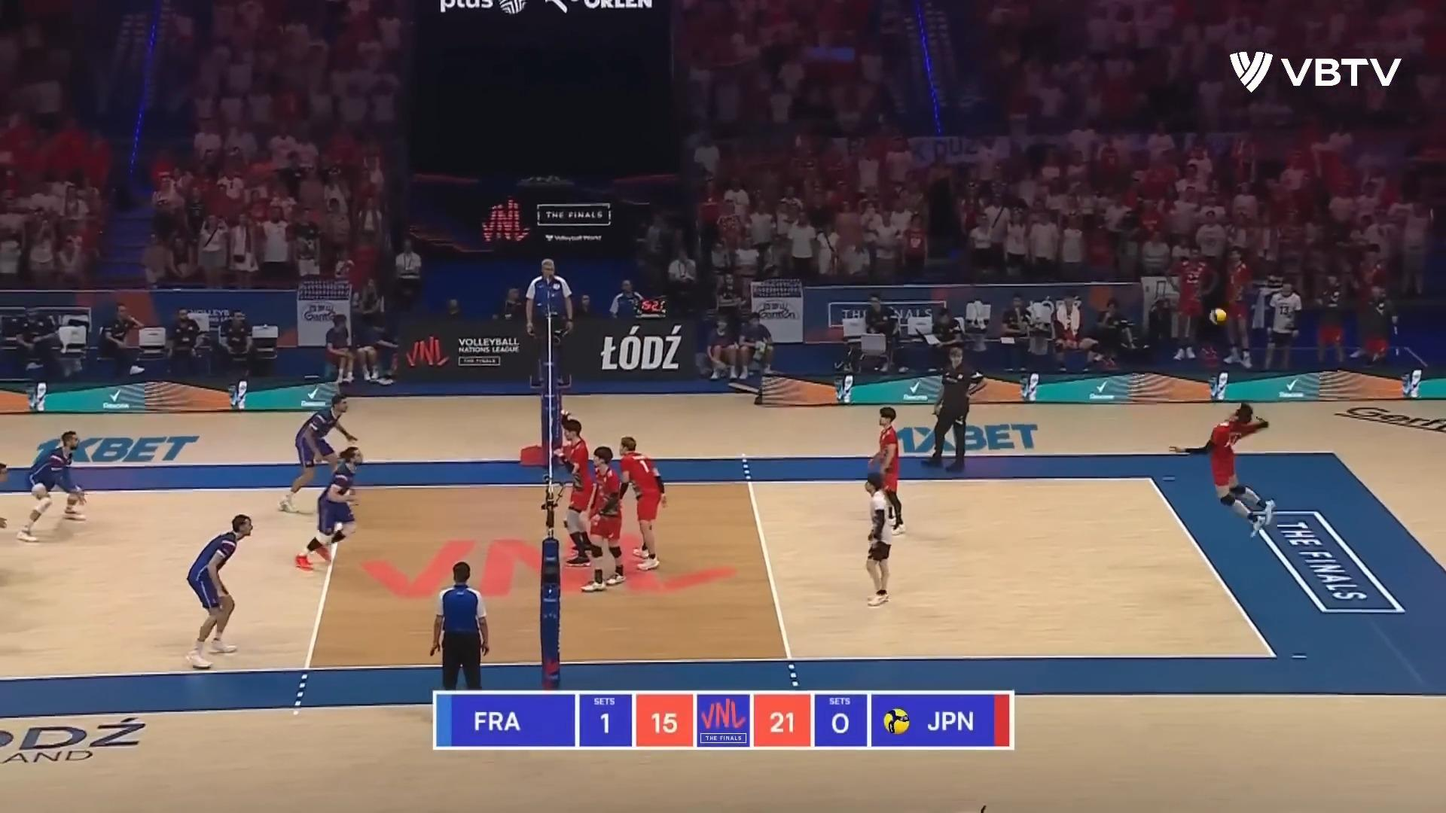ball: (1209, 306, 1228, 327)
